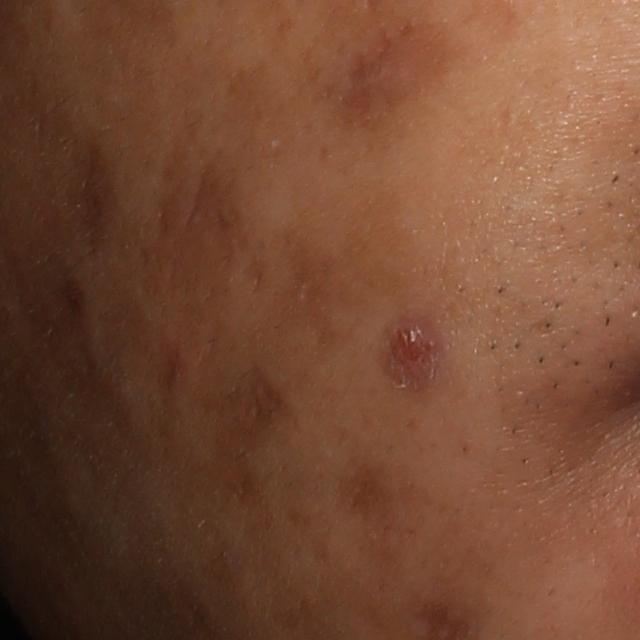papule: (387, 321, 434, 377)
